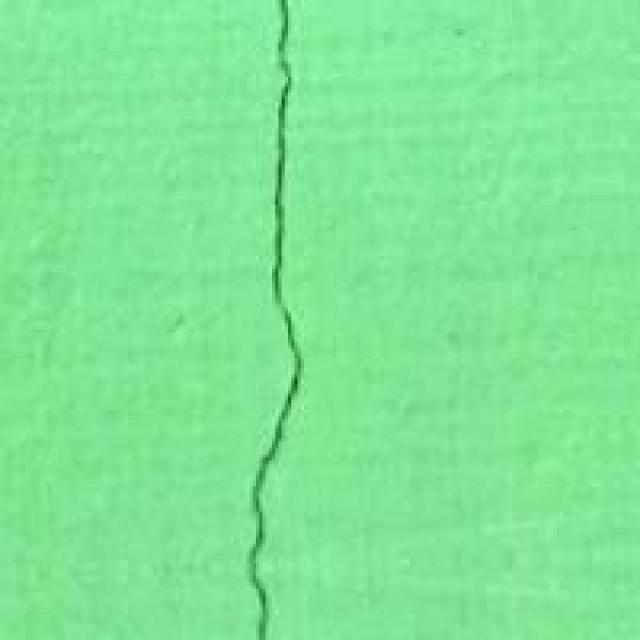Crack: (170, 0, 368, 637)
